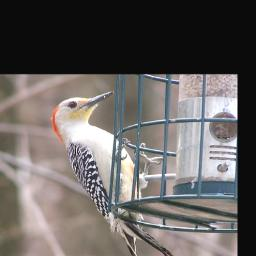Woodpecker: (48, 88, 179, 256)
